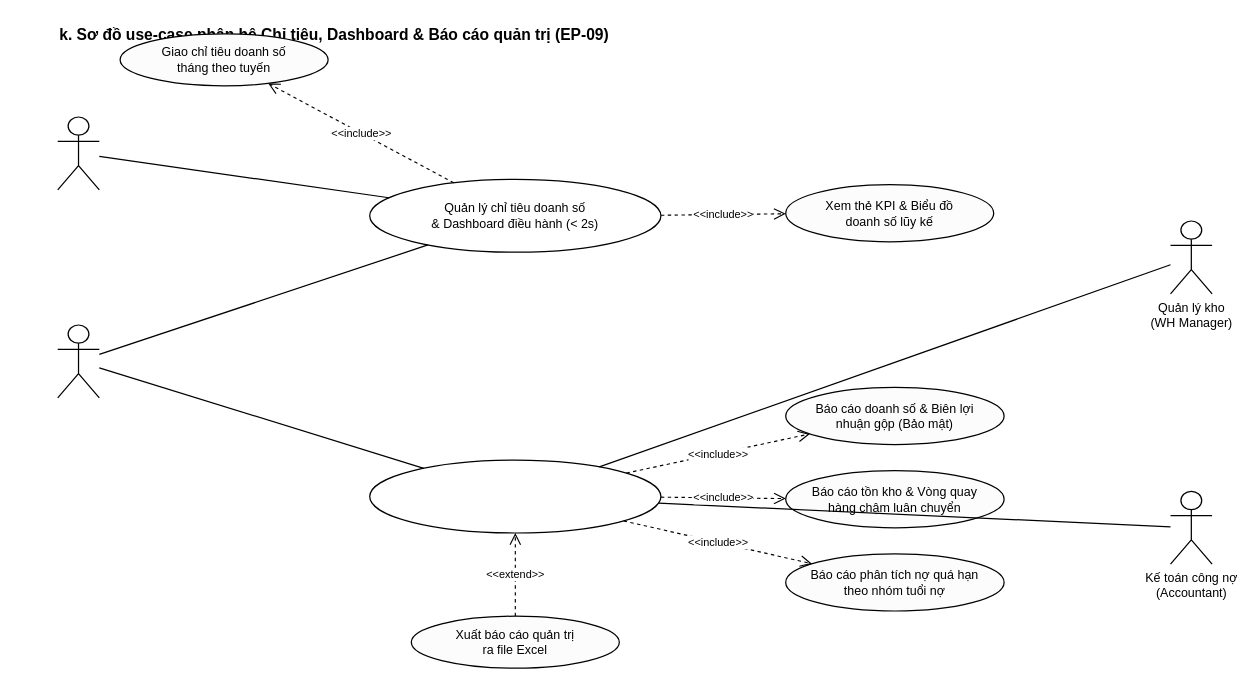
This 1256x686 diagram has some shape labels left out. The centre of each missing label's shape, as x and y in pixels:
"Nhân viên kinh doanh (Sales Rep)" belongs at pixel 78 153.
"Quản lý kinh doanh (Sales Manager)" belongs at pixel 78 361.
"Xem & Xuất báo cáo phân tích quản trị (Doanh số, Tồn, Nợ)" belongs at pixel 515 496.
